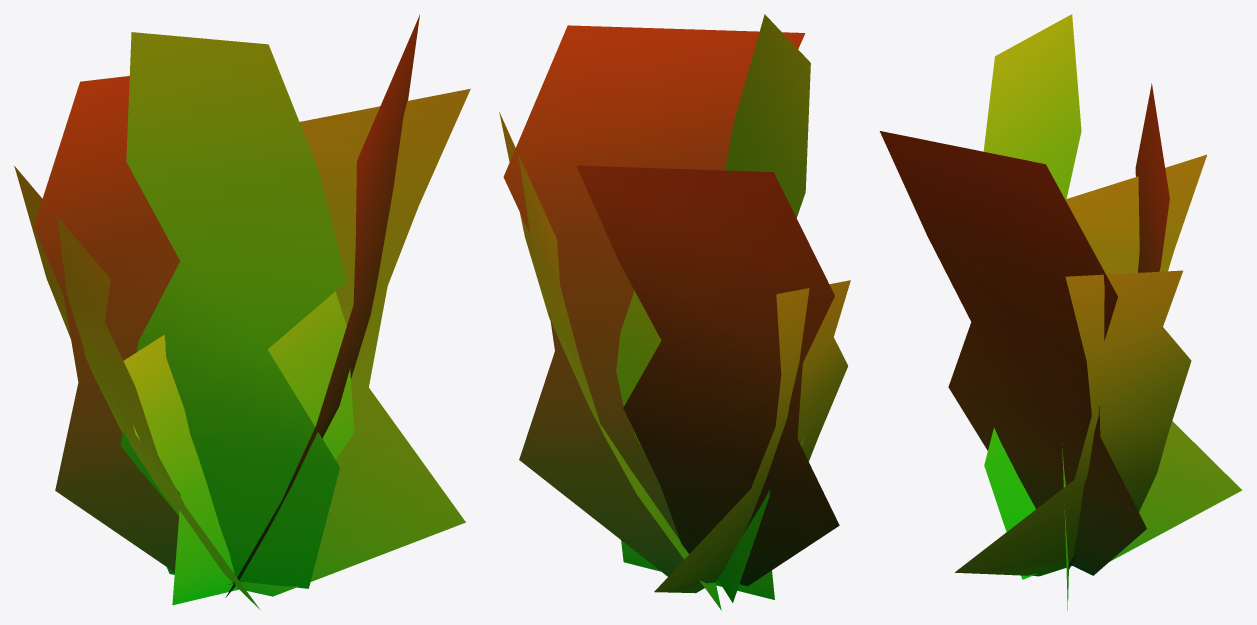
The model's file is Var8Hi42.fbx.
3 views of the same model, side by side, from view 1: azimuth 30°, elevation 25°; view 2: azimuth 150°, elevation 25°; view 3: azimuth 270°, elevation 25° (orthographic). The views are drawn at different scales.
Parts seen in each view (by area): view 1: bend1; view 2: bend1; view 3: bend1.
Boxes of the visible parts, x1=… form: bend1: x1=14, y1=15, x2=470, y2=609; bend1: x1=499, y1=14, x2=850, y2=610; bend1: x1=879, y1=14, x2=1242, y2=610.
Bounding box in the file's own units: 1.26 × 1.77 × 1.14.
